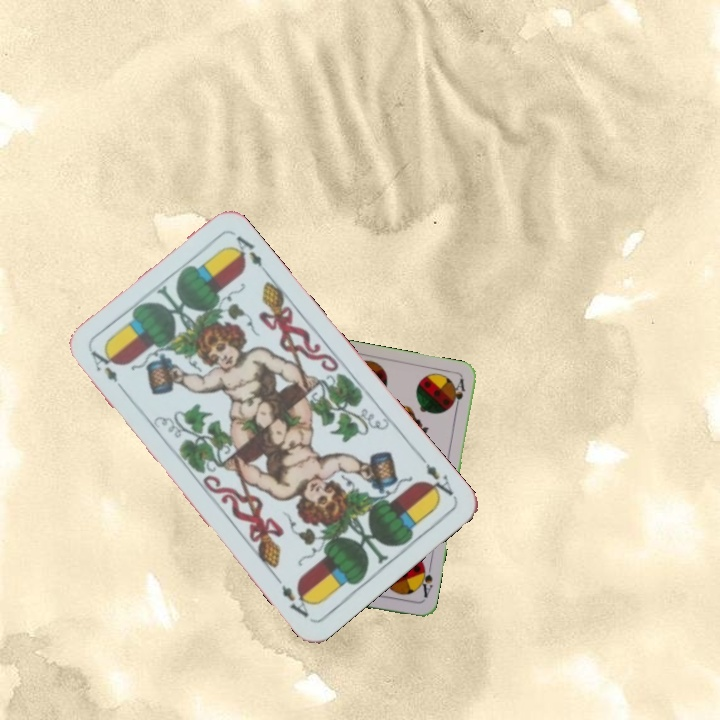EA: (86, 346, 129, 396), (415, 451, 456, 502)
SA: (415, 561, 435, 600)
